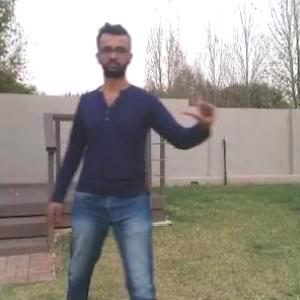land_hand: (180, 80, 223, 128)
